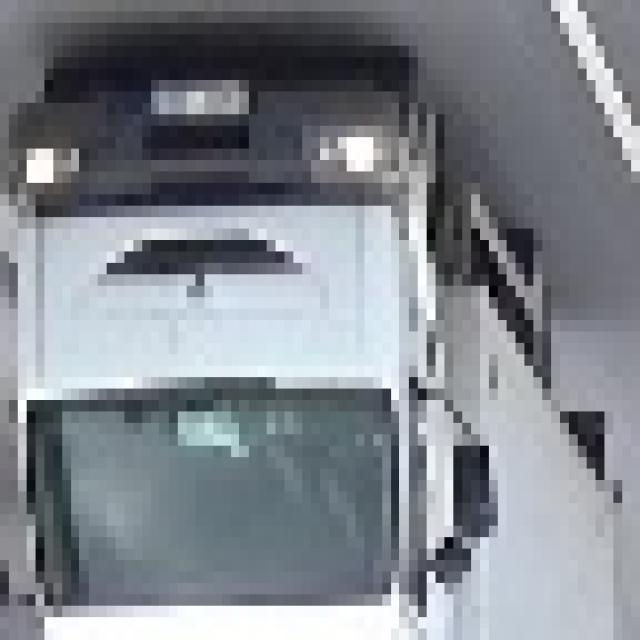Truck: (9, 80, 640, 640)
